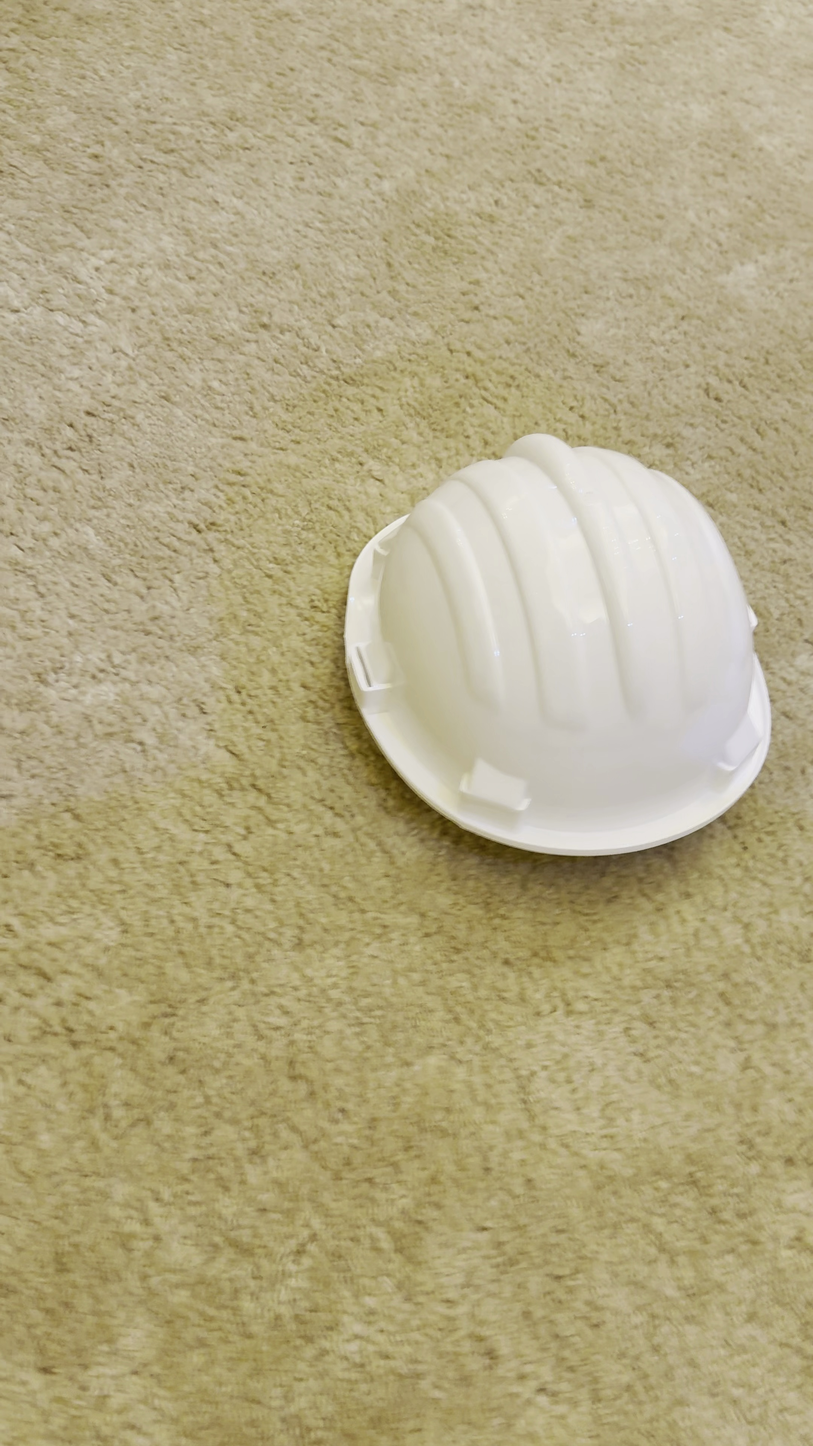safety_helmet: (341, 430, 772, 859)
